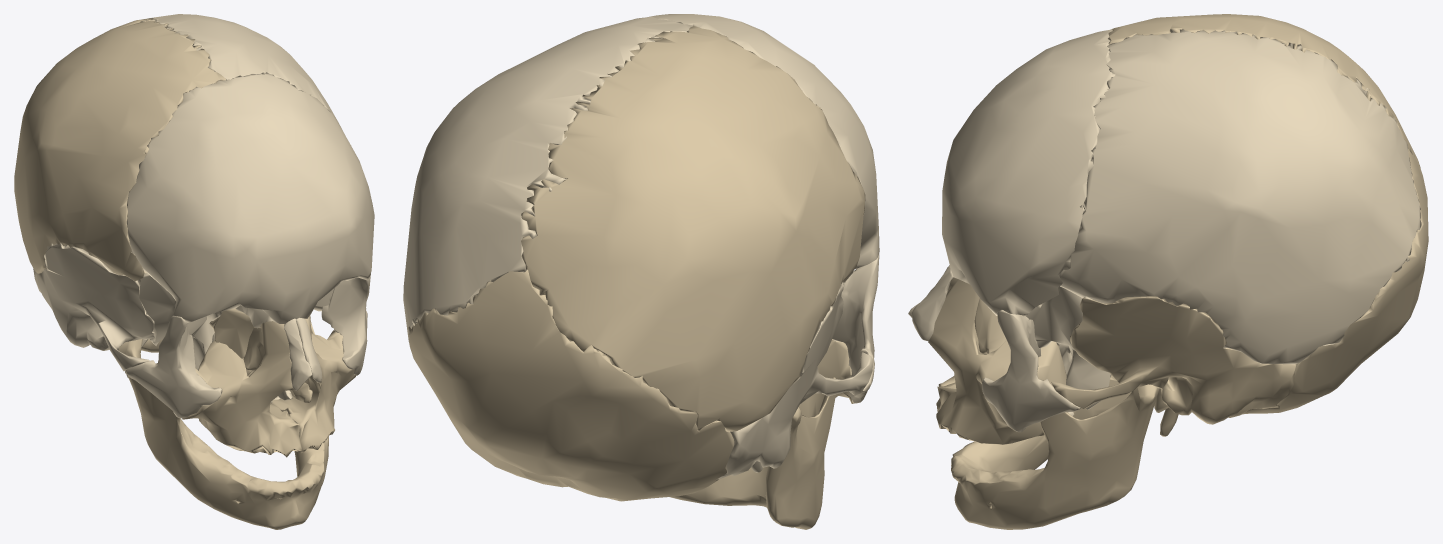
The model's file is craneo-humano.glb.
The picture shows the model from 3 angles, left to right: view 1: azimuth 30°, elevation 25°; view 2: azimuth 150°, elevation 25°; view 3: azimuth 270°, elevation 25°; orthographic projection. The views are drawn at different scales.
Parts seen in each view (by area): view 1: frontal-bone, right-parietal-bone, mandible, right-maxilla, right-temporal-bone, left-parietal-bone, right-zygomatic-bone, left-maxilla, left-zygomatic-bone, sphenoid-bone, ethmoid-bone, right-nasal-bone (+2 smaller); view 2: right-parietal-bone, occipital-bone, left-parietal-bone, frontal-bone, mandible, right-temporal-bone, right-zygomatic-bone, right-maxilla; view 3: left-parietal-bone, frontal-bone, left-temporal-bone, mandible, left-maxilla, occipital-bone, right-parietal-bone, left-zygomatic-bone, sphenoid-bone, left-nasal-bone, left-lacrimal-bone.
Part boxes in pixels (x1,y1,x2,y2): frontal-bone: [126, 72, 374, 328]; right-parietal-bone: [14, 18, 225, 281]; mandible: [118, 315, 328, 529]; right-maxilla: [182, 321, 302, 457]; right-temporal-bone: [33, 243, 155, 378]; left-parietal-bone: [139, 14, 345, 135]; right-zygomatic-bone: [125, 315, 222, 418]; left-maxilla: [271, 316, 355, 452]; left-zygomatic-bone: [321, 274, 370, 375]; sphenoid-bone: [137, 273, 334, 369]; ethmoid-bone: [209, 308, 261, 358]; right-nasal-bone: [284, 318, 312, 390]; right-parietal-bone: [521, 26, 865, 431]; occipital-bone: [408, 270, 734, 501]; left-parietal-bone: [403, 16, 692, 342]; frontal-bone: [647, 14, 879, 268]; mandible: [670, 377, 835, 529]; right-temporal-bone: [717, 281, 873, 479]; right-zygomatic-bone: [832, 254, 879, 403]; right-maxilla: [799, 339, 854, 417]; left-parietal-bone: [1059, 29, 1421, 364]; frontal-bone: [942, 29, 1115, 315]; left-temporal-bone: [1051, 296, 1296, 436]; mandible: [951, 375, 1159, 529]; left-maxilla: [928, 277, 1066, 444]; occipital-bone: [1242, 148, 1428, 414]; right-parietal-bone: [1108, 14, 1420, 167]; left-zygomatic-bone: [982, 310, 1080, 432]; sphenoid-bone: [1022, 286, 1111, 409]; left-nasal-bone: [912, 266, 953, 341]; left-lacrimal-bone: [974, 298, 1006, 353].
Size of the model in its own units: 1.42 by 2 by 1.95.
